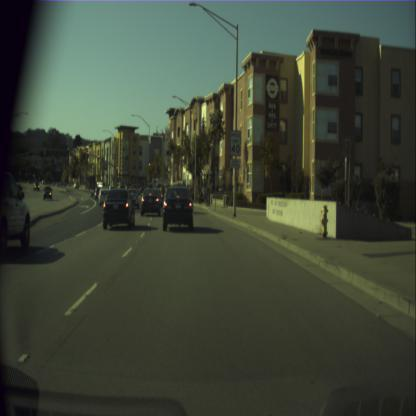Red: (96, 154, 98, 160), (86, 151, 88, 156)
